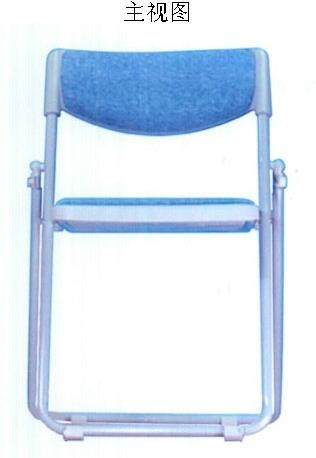obstacle: (28, 48, 285, 439)
